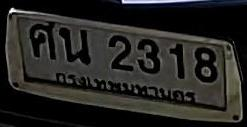number: (24, 18, 223, 85)
province: (52, 71, 197, 107)
